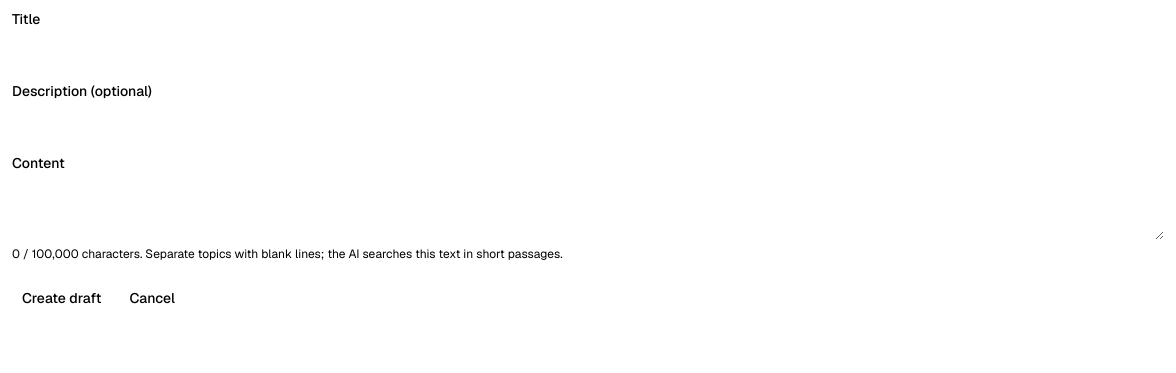
Scenario: KnowledgeDocumentForm › validates with the server schema and sends nothing when invalid
Click the button "Create draft" at (62, 298), box [12,282,112,314]
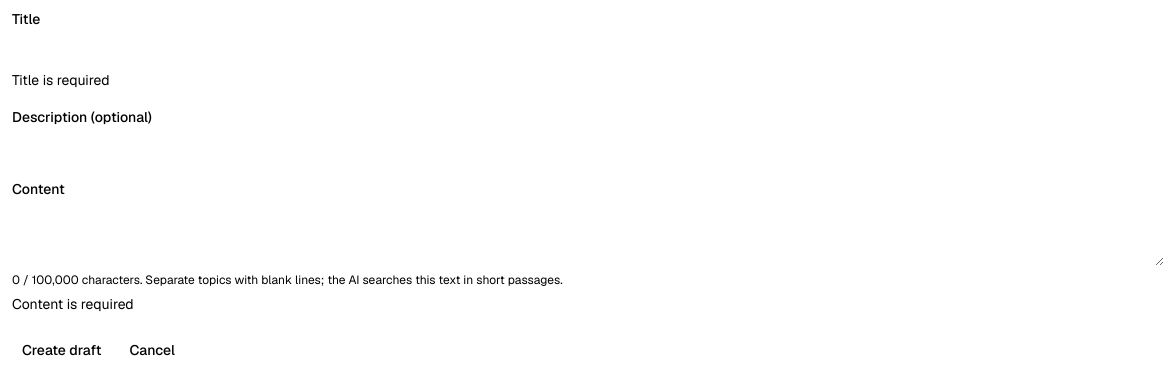
Expected: the text "Title is required" is shown, [12,71,110,89]
Expected: the text "Content is required" is shown, [12,295,134,313]
